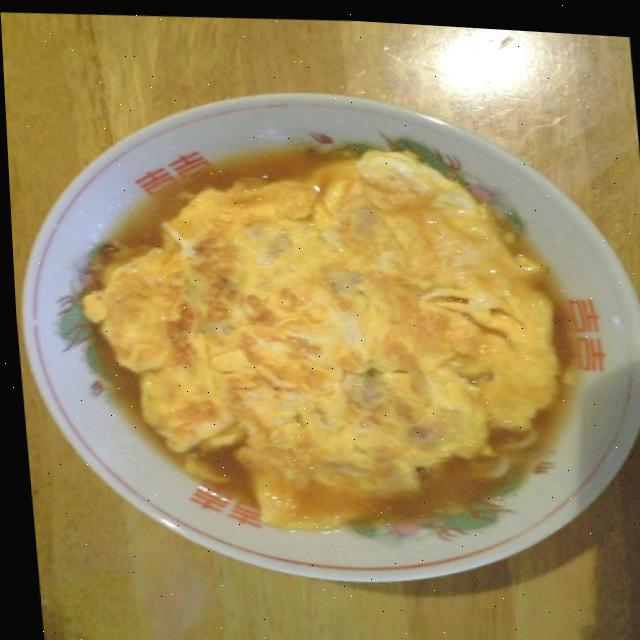面条主食: (9, 64, 640, 601)
